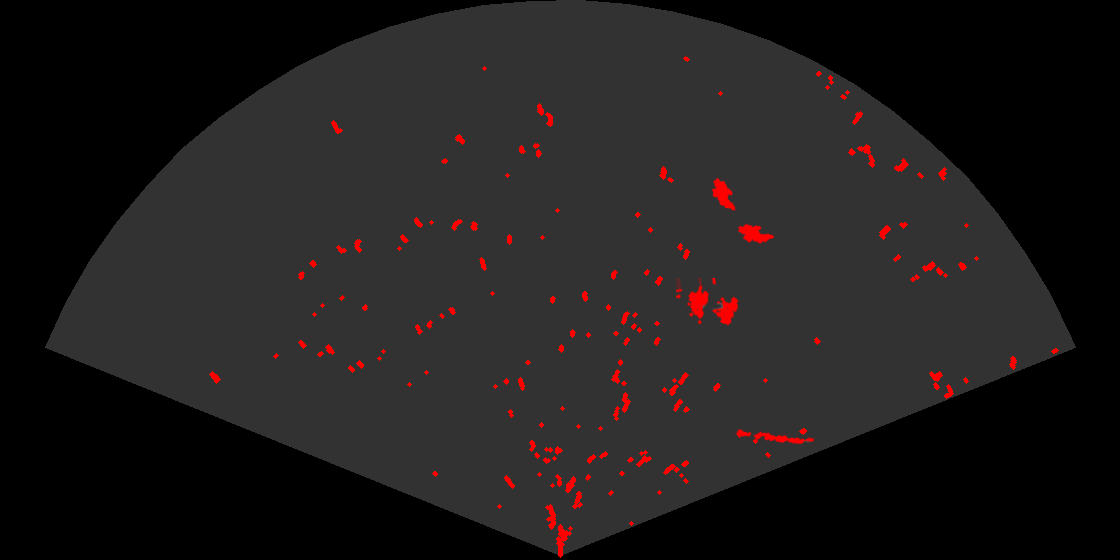AUV: (710, 176, 737, 213), (736, 222, 776, 245)
cage: (676, 278, 740, 327)
chain: (733, 428, 816, 446)
